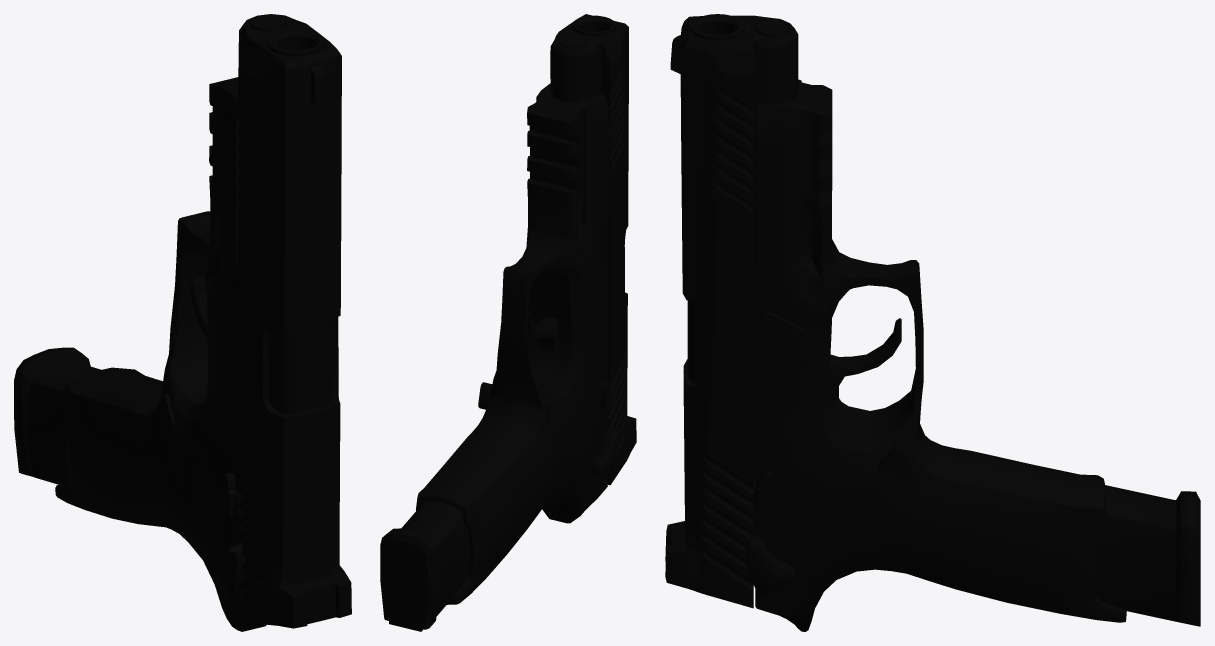
The model's file is SIG_M17.fbx.
3 views of the same model, side by side, from view 1: azimuth 30°, elevation 25°; view 2: azimuth 150°, elevation 25°; view 3: azimuth 270°, elevation 25° (orthographic). The views are drawn at different scales.
Visible parts, largest first — view 1: asset_SIG_M17.001; view 2: asset_SIG_M17.001; view 3: asset_SIG_M17.001.
Part boxes in pixels (x1=…): asset_SIG_M17.001: x1=14, y1=14, x2=351, y2=631; asset_SIG_M17.001: x1=380, y1=14, x2=636, y2=631; asset_SIG_M17.001: x1=665, y1=14, x2=1200, y2=631.
Size of the model in its own units: 0.0217 by 0.1254 by 0.1014.
